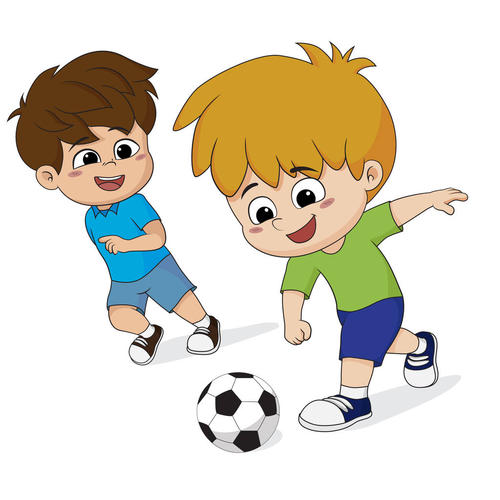football: (192, 367, 279, 458)
